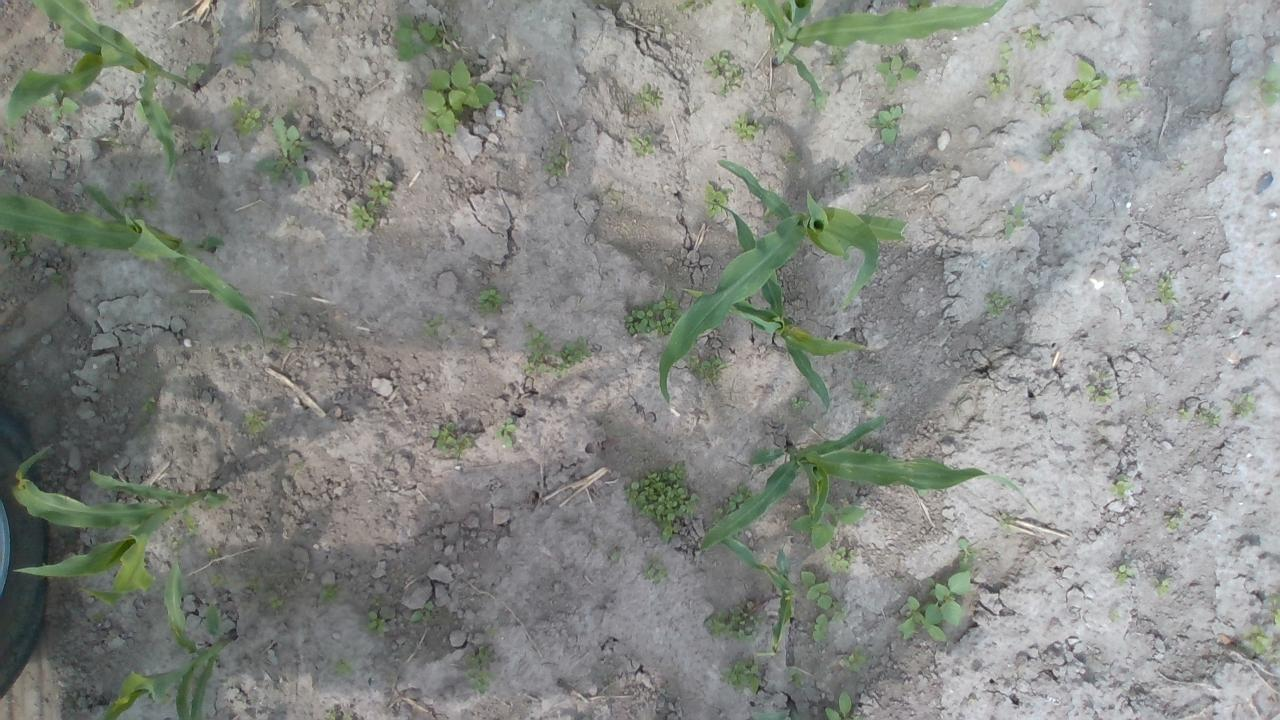Maize: (659, 160, 910, 415), (699, 416, 1039, 556), (1, 176, 268, 354), (688, 194, 868, 411), (3, 0, 205, 180), (10, 440, 226, 606), (752, 0, 1009, 104), (98, 554, 238, 720), (722, 539, 796, 657)
Weeds: (902, 538, 974, 642), (422, 56, 494, 132), (632, 458, 694, 542), (263, 118, 315, 186), (526, 330, 594, 374), (626, 288, 684, 334), (1063, 54, 1109, 108), (390, 11, 436, 59), (706, 602, 758, 640), (706, 49, 744, 95), (869, 102, 905, 148), (879, 51, 923, 88), (430, 424, 475, 458), (465, 644, 494, 696), (798, 568, 833, 606), (728, 656, 764, 691), (848, 378, 882, 413), (692, 352, 728, 384), (1002, 191, 1028, 234), (231, 96, 262, 132), (42, 93, 80, 122), (1259, 56, 1280, 108), (824, 691, 858, 720), (1088, 368, 1115, 404), (1244, 624, 1274, 656), (120, 185, 156, 210), (349, 200, 378, 231), (704, 184, 729, 218), (408, 598, 438, 626), (1052, 115, 1076, 150), (366, 597, 388, 635), (493, 414, 519, 446), (478, 290, 508, 316), (725, 479, 751, 508), (730, 114, 760, 139), (1018, 24, 1050, 47), (643, 558, 669, 586), (1263, 588, 1280, 629), (1231, 391, 1257, 417), (246, 406, 268, 436), (990, 72, 1015, 98), (824, 546, 850, 570), (846, 646, 870, 670), (508, 74, 534, 96), (189, 130, 219, 148), (6, 236, 30, 258), (1117, 77, 1141, 99), (374, 176, 394, 202), (266, 330, 292, 348), (1158, 277, 1176, 303), (636, 85, 657, 107), (49, 270, 72, 290), (629, 136, 654, 154), (813, 614, 827, 646), (679, 0, 713, 13), (242, 574, 264, 594), (1030, 92, 1051, 112), (1202, 408, 1225, 426), (544, 155, 564, 175), (824, 44, 844, 64), (232, 47, 255, 64), (1113, 560, 1130, 583), (999, 42, 1015, 66), (789, 670, 810, 688), (325, 582, 346, 600), (830, 166, 850, 184), (986, 292, 1002, 314), (1122, 261, 1136, 284), (736, 1, 764, 12), (334, 660, 352, 677), (834, 602, 850, 621), (1114, 482, 1134, 496), (784, 147, 800, 164), (206, 545, 223, 561), (791, 395, 810, 409), (422, 314, 438, 330), (1166, 514, 1182, 530), (1155, 577, 1172, 592), (117, 0, 140, 11), (906, 0, 934, 9), (142, 402, 156, 416), (211, 573, 226, 586), (1109, 608, 1122, 622), (269, 596, 284, 608), (1162, 318, 1177, 330), (1000, 513, 1014, 524), (1178, 404, 1188, 417), (1179, 159, 1190, 170), (1040, 155, 1054, 162)
